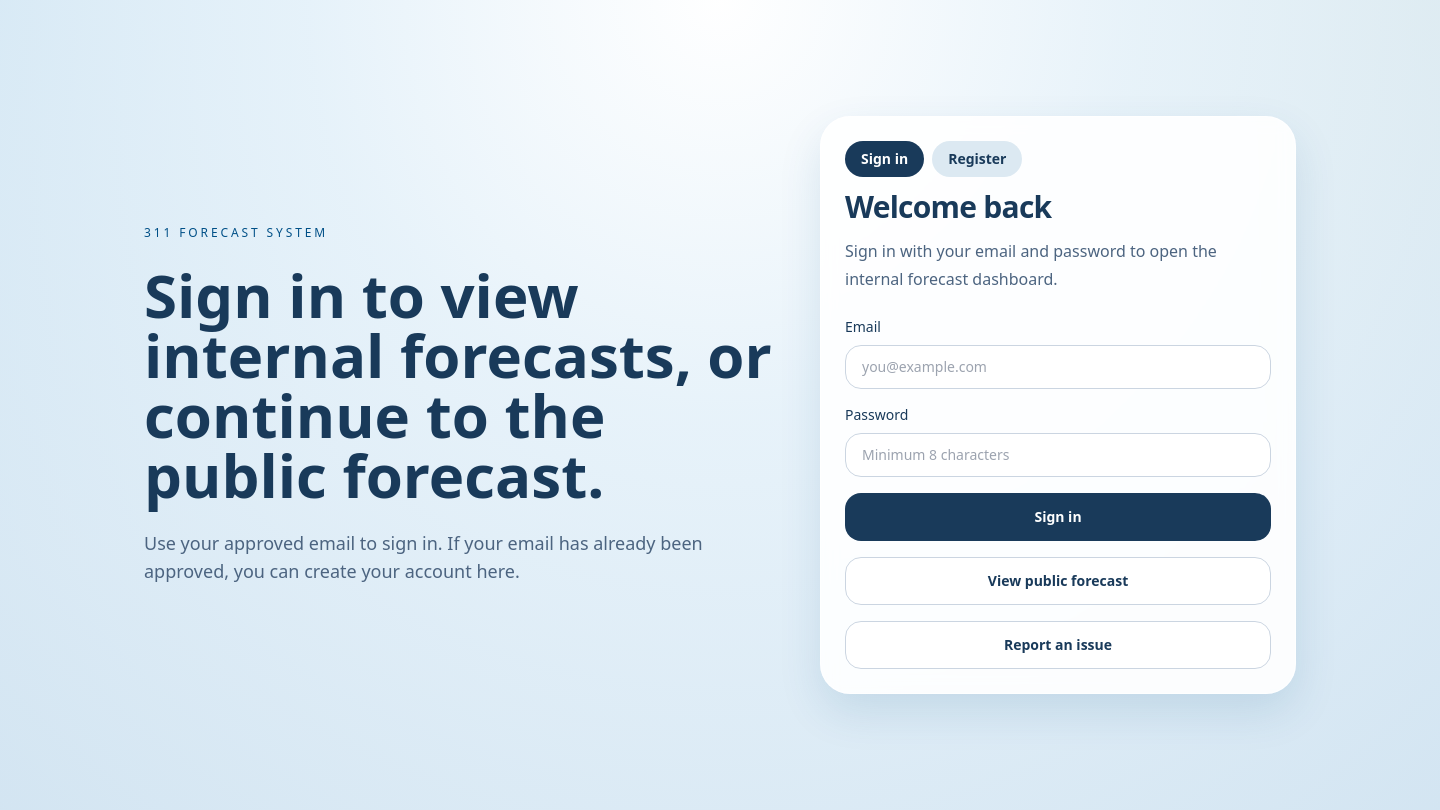
App › shows generic authentication failure when auth throws a non-Error value
Expected: the heading "Sign in to view internal forecasts" is shown, [144,265,788,505]
Step 1. Type "planner@example.com" into the field with placeholder "you@example.com" → (1058, 367), box [845,345,1271,389]
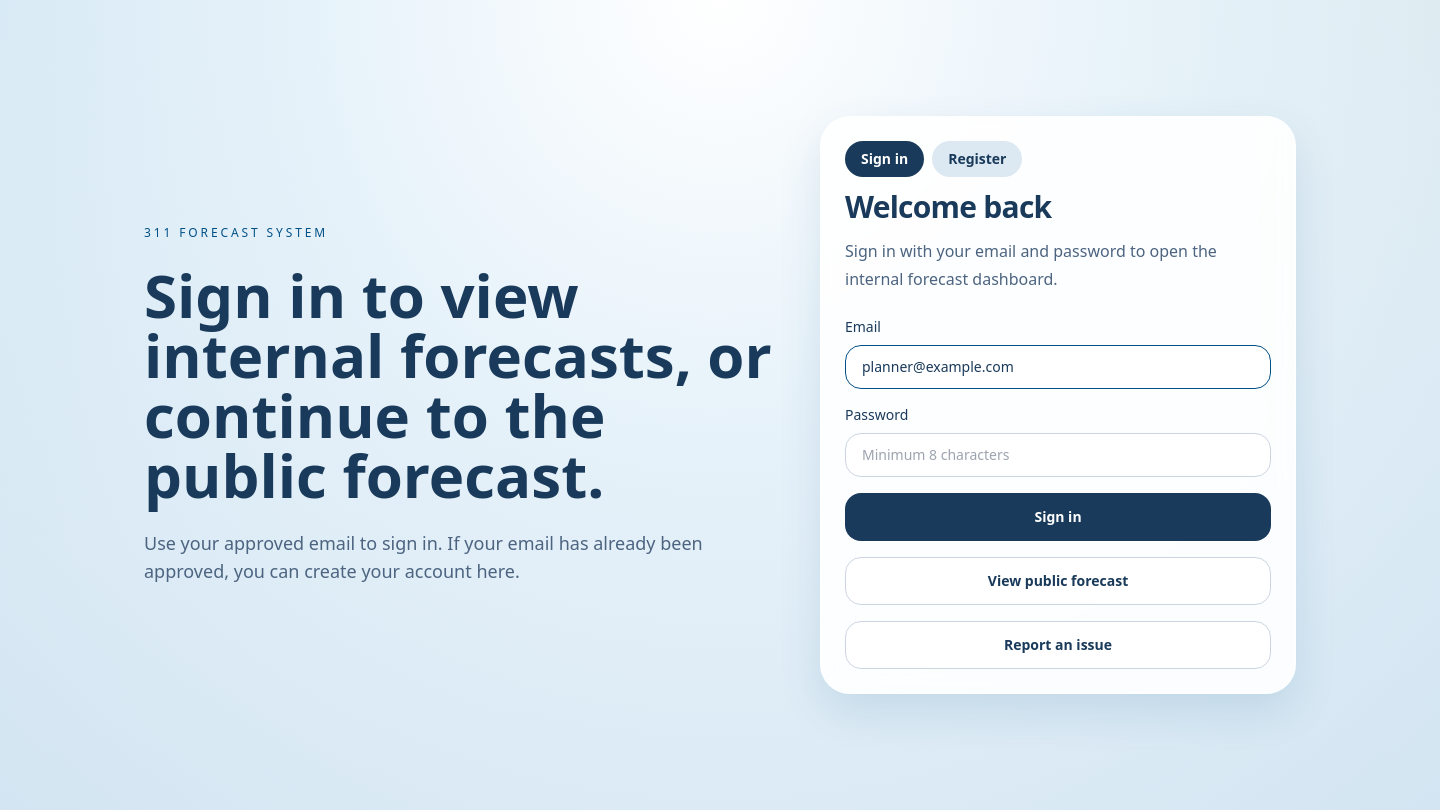
Step 2. Type "super-secret-password" into the password field with placeholder "Minimum 8 characters" → (1058, 455), box [845,433,1271,477]
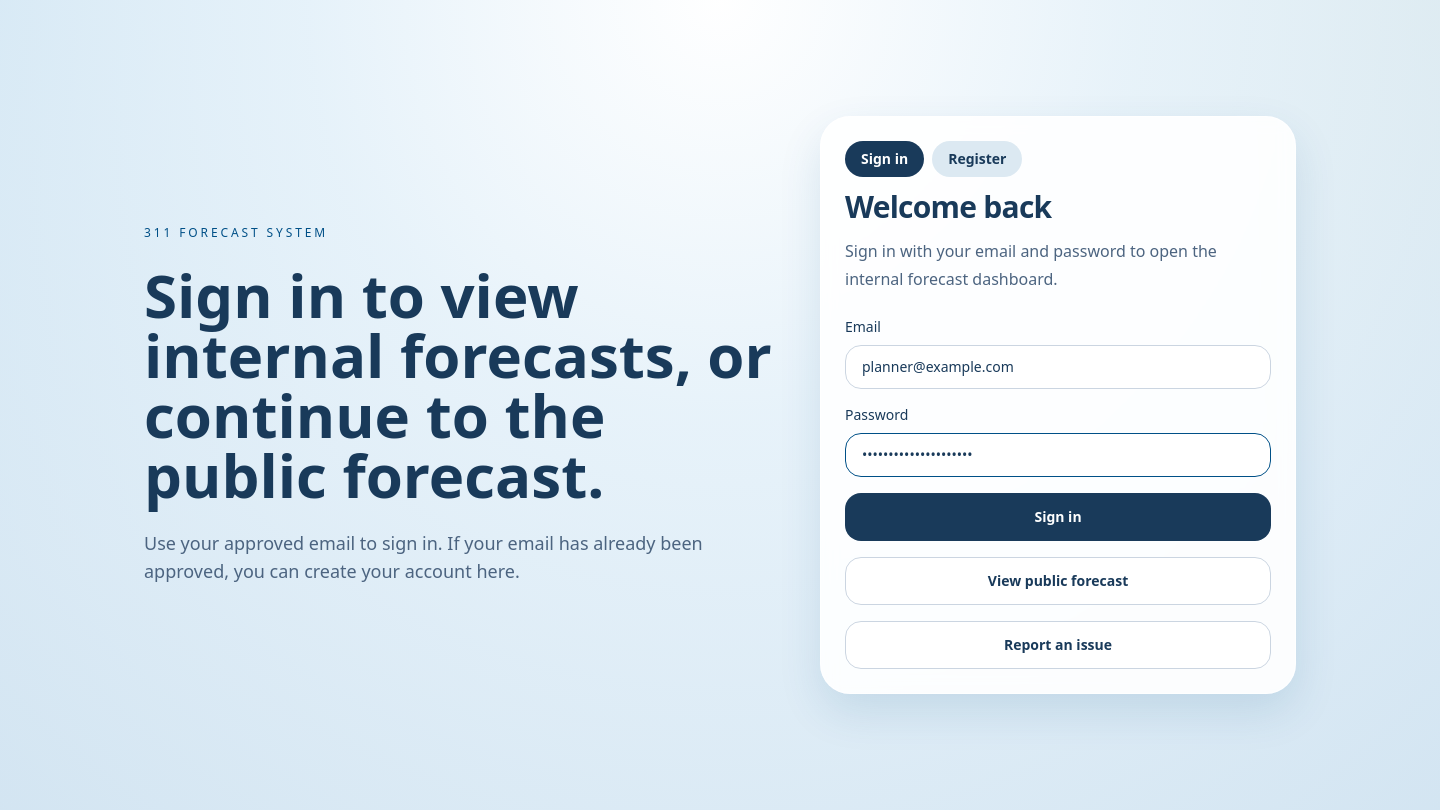
Step 3. Click the 2nd button "Sign in" → (1058, 517), box [845,493,1271,541]
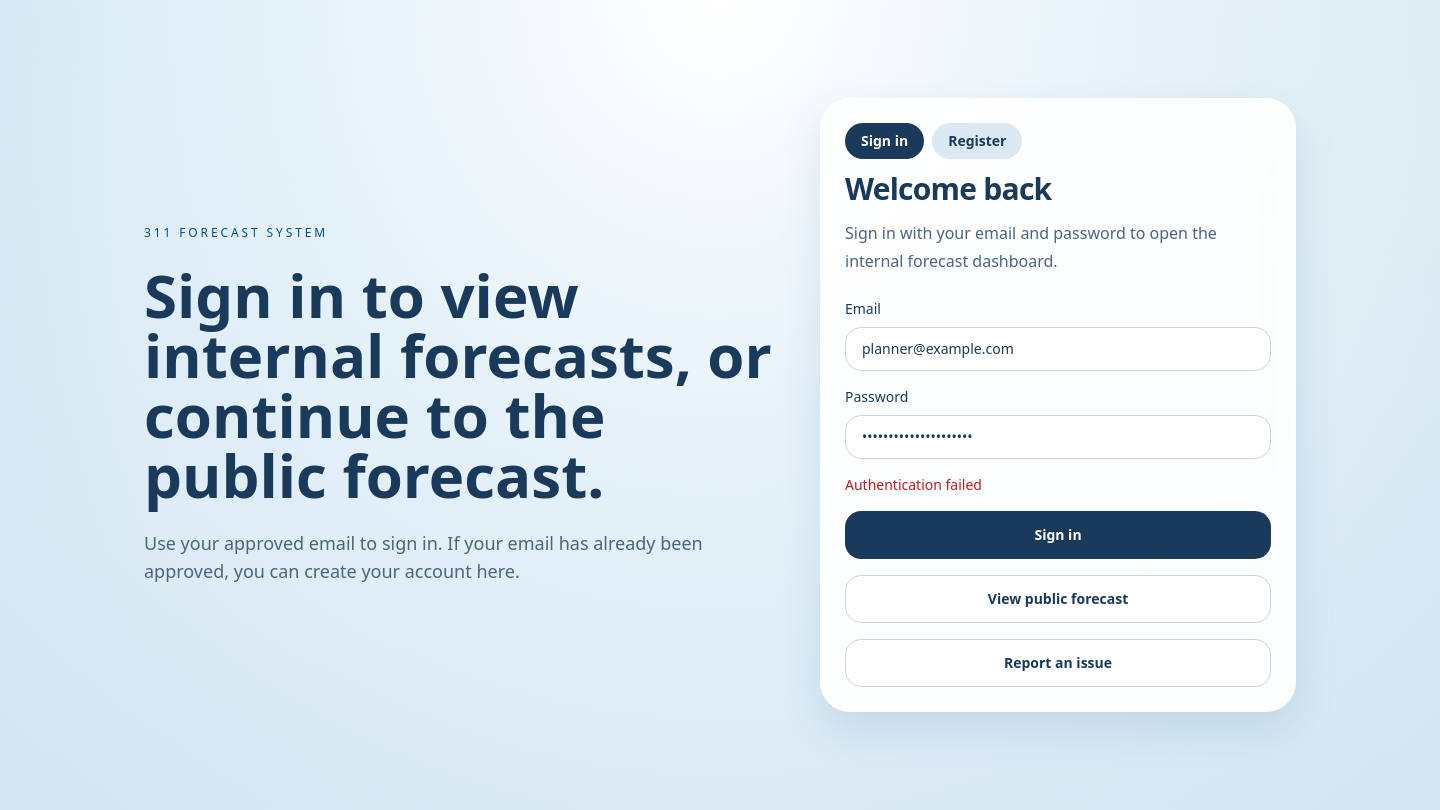
Now the text "Authentication failed" is shown, box [845,475,982,494]
